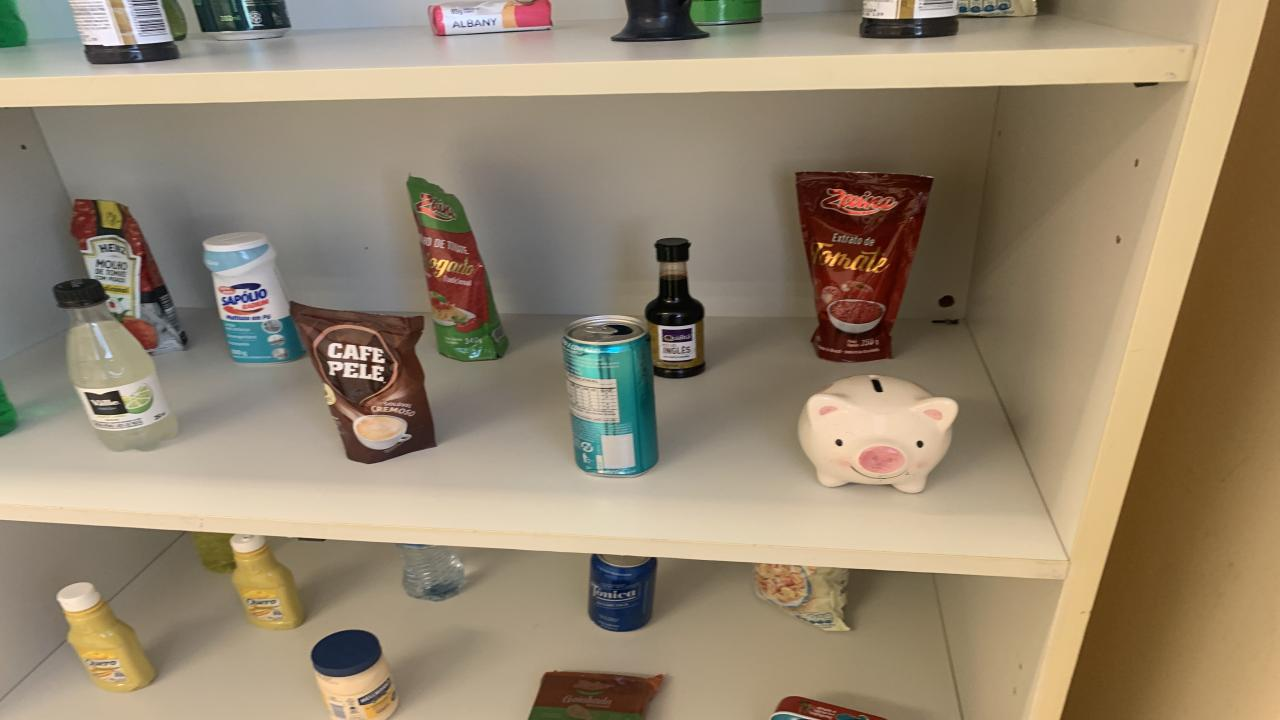Cleaner-Cleanup_Items: (205, 232, 305, 364)
Coffee-Pantry_Items: (290, 302, 435, 463)
English_Sauce-Pantry_Items: (645, 238, 705, 379), (70, 0, 180, 64), (860, 0, 958, 38)
Flakes-Snacks: (755, 562, 850, 632), (958, 0, 1038, 17)
Guarana_Can-Drinks: (192, 0, 290, 41)
Guava-Snacks: (530, 671, 662, 720)
Mayonnaise-Pantry_Items: (310, 630, 398, 720)
Mustard-Pantry_Items: (58, 583, 155, 692), (230, 534, 305, 630)
Pig_Safe-Miscellaneous: (798, 375, 958, 493)
Pringles-Snacks: (690, 0, 762, 24)
Soap-Cleanup_Items: (428, 0, 552, 36)
Soda-Drinks: (52, 278, 178, 452)
Tea-Drinks: (562, 315, 658, 476)
Tomato_Sauce-Pantry_Items: (795, 172, 932, 362), (408, 176, 508, 360), (70, 199, 188, 354)
Tonic-Drinks: (588, 555, 658, 632)
Tuna_Can-Pantry_Items: (770, 696, 885, 720)
Water_Bottle-Drinks: (395, 544, 465, 602)
